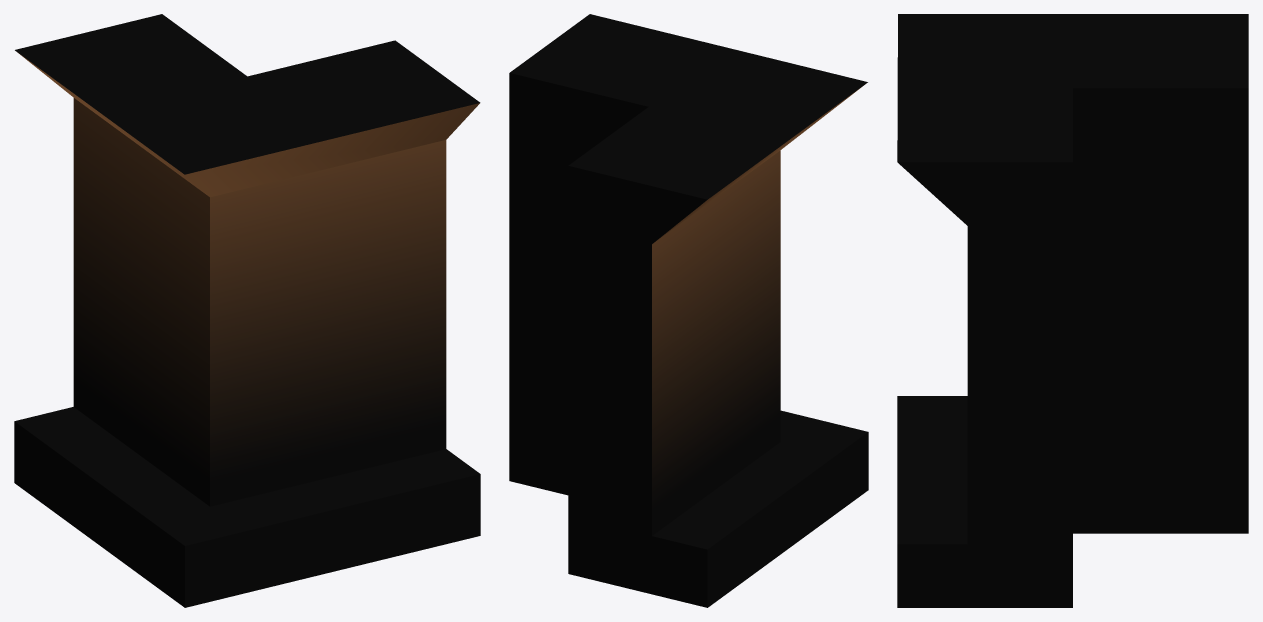
File: hole_corner2.FBX
3 renders of one model, left to right at view 1: azimuth 30°, elevation 25°; view 2: azimuth 150°, elevation 25°; view 3: azimuth 270°, elevation 25°, orthographic. The views are drawn at different scales.
Parts seen in each view (by area): view 1: hole_corner2, hole_Box000, hole_corner2_trim, hole_Box001; view 2: hole_corner2, hole_corner2_trim, hole_Box001, hole_Box000; view 3: hole_corner2, hole_corner2_trim, hole_Box000.
Boxes of the visible parts, bbox=[...] form: hole_corner2: bbox=[73, 14, 446, 506]; hole_Box000: bbox=[151, 449, 480, 607]; hole_corner2_trim: bbox=[15, 35, 480, 197]; hole_Box001: bbox=[14, 407, 209, 582]; hole_corner2: bbox=[509, 37, 780, 594]; hole_corner2_trim: bbox=[558, 14, 867, 243]; hole_Box001: bbox=[652, 442, 836, 607]; hole_Box000: bbox=[780, 410, 868, 513]; hole_corner2: bbox=[967, 43, 1248, 607]; hole_corner2_trim: bbox=[897, 14, 1248, 225]; hole_Box000: bbox=[897, 396, 967, 607].
Size of the model in its own units: 100 by 140 by 100.
